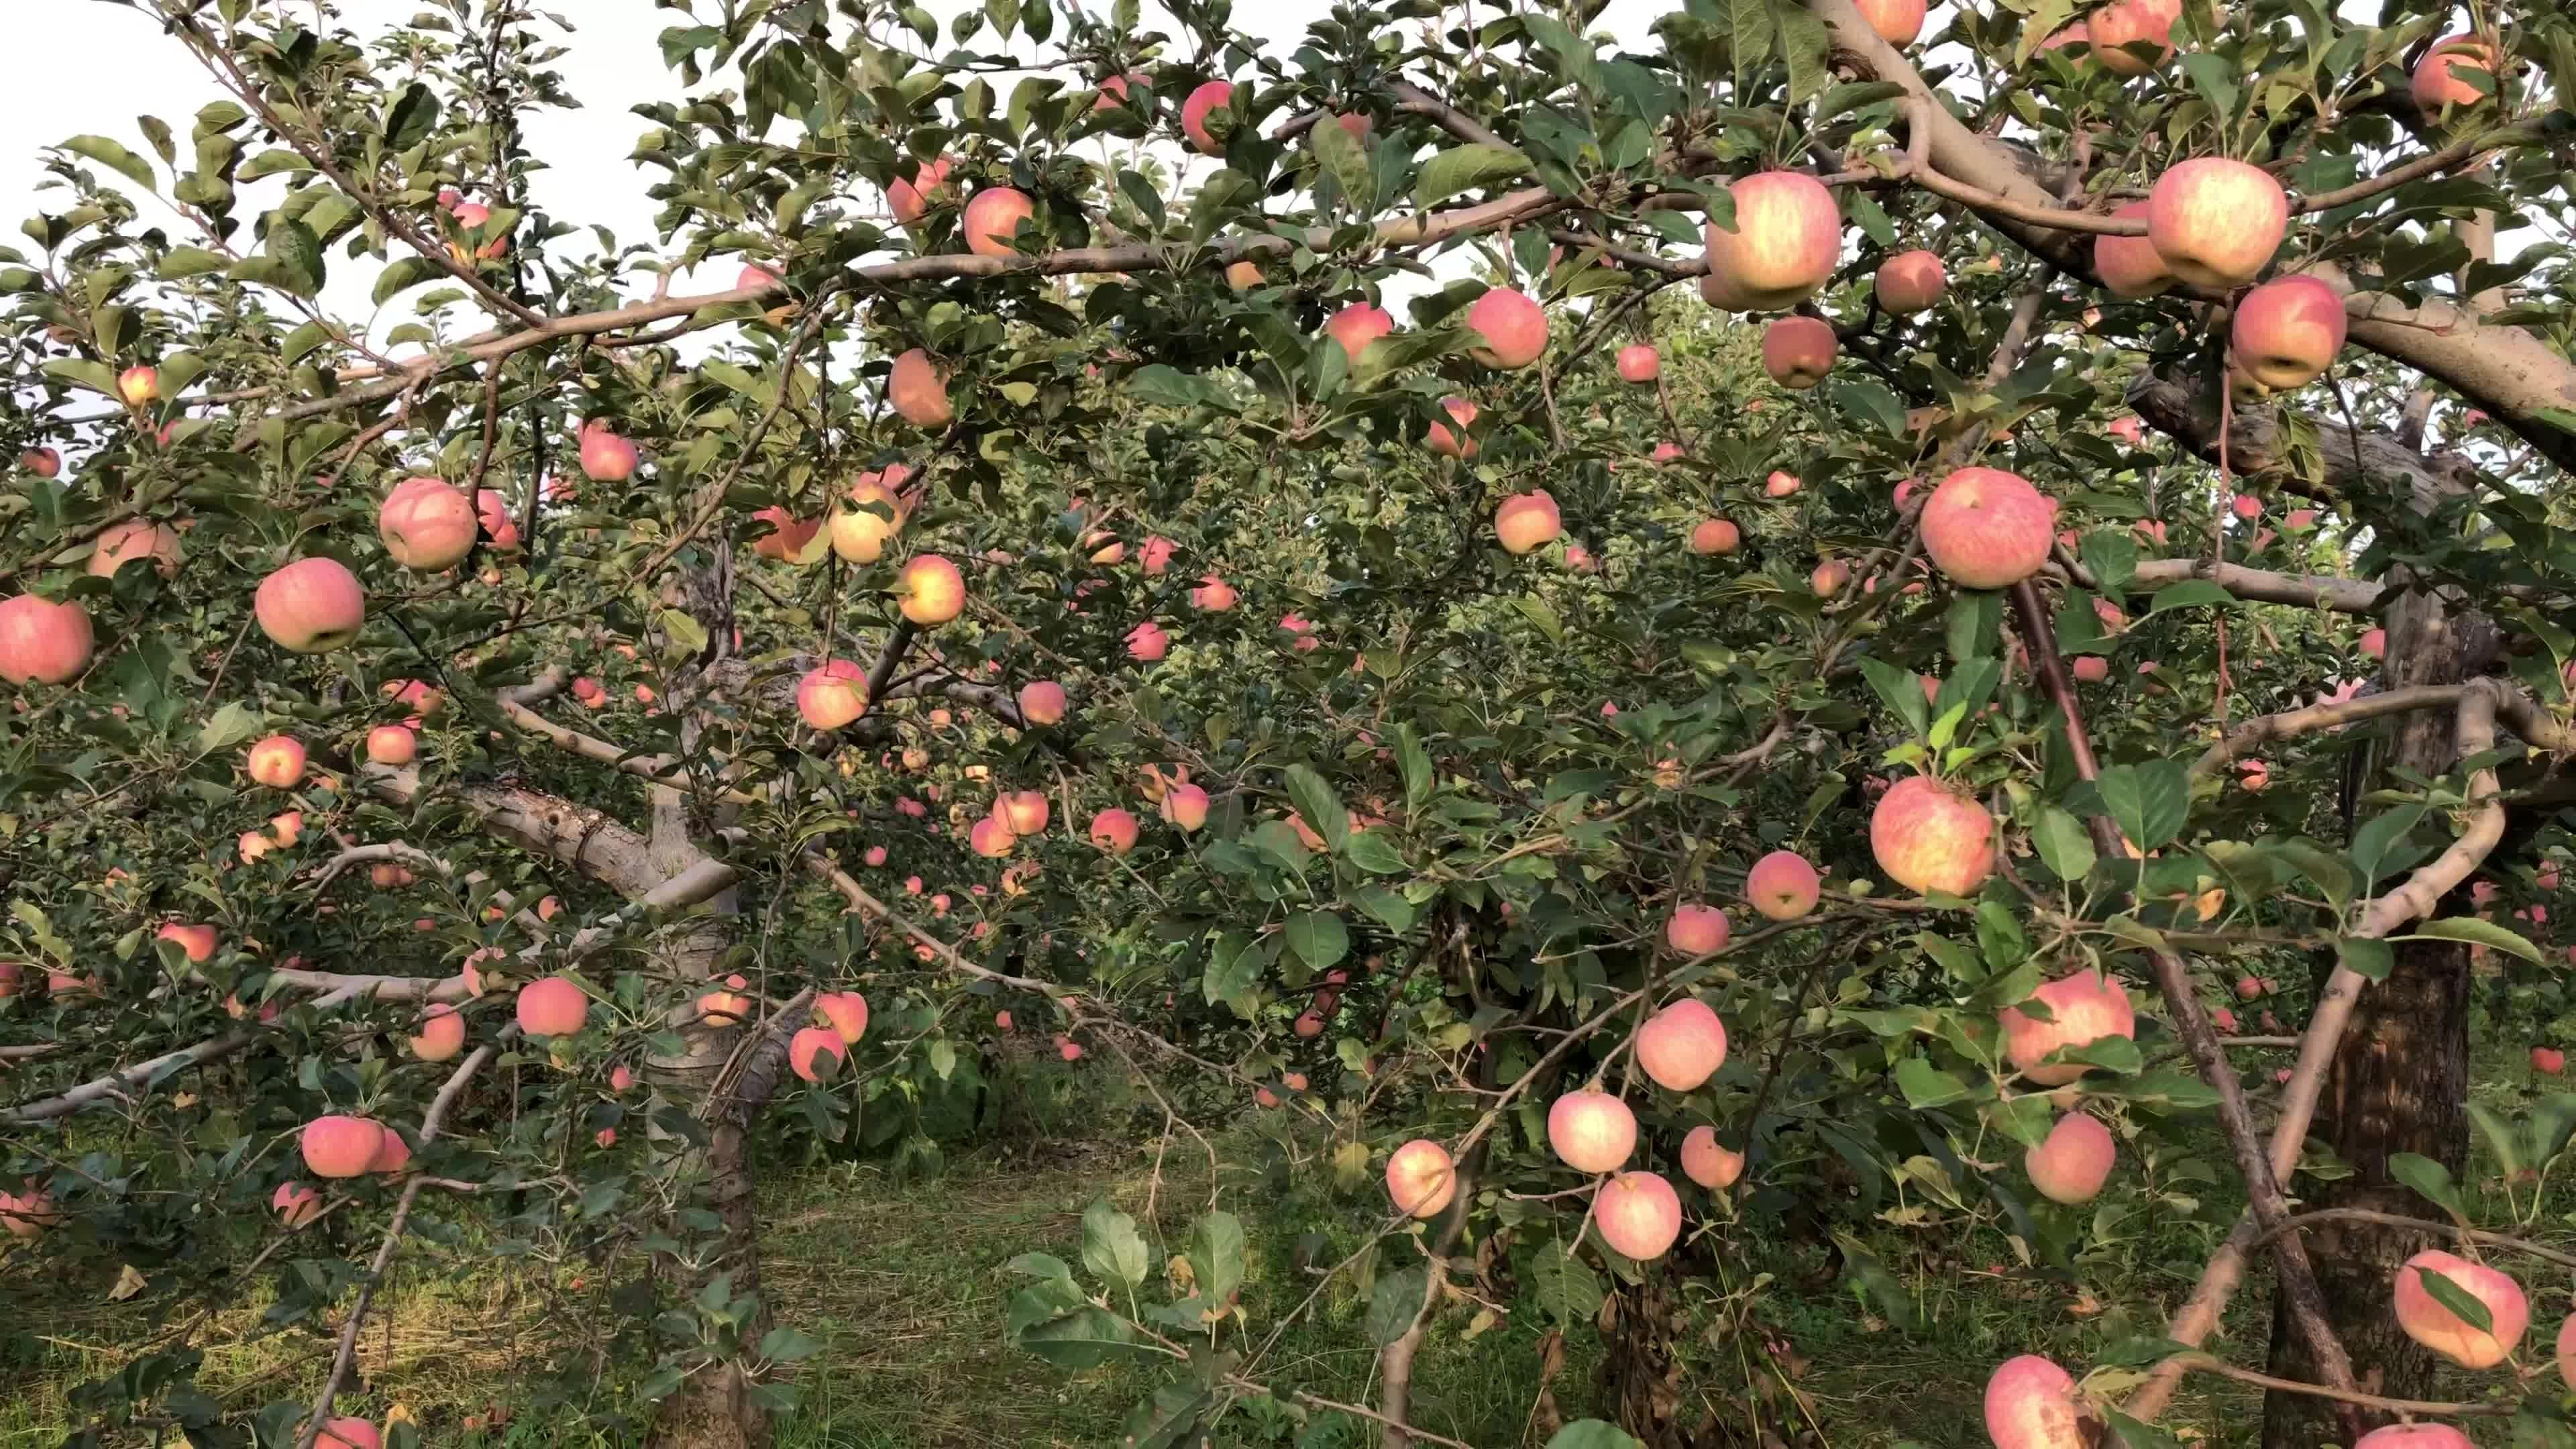apple: (1702, 170, 1844, 317), (2151, 157, 2295, 292), (2392, 1246, 2530, 1373), (1921, 472, 2059, 593), (1872, 780, 1999, 901), (2008, 966, 2134, 1077), (2233, 280, 2348, 396), (1985, 1357, 2107, 1449), (255, 557, 361, 653), (0, 596, 97, 688), (2029, 1113, 2120, 1208), (1594, 1175, 1684, 1265), (1550, 1088, 1640, 1178), (1468, 292, 1552, 370), (966, 188, 1044, 265), (297, 1111, 382, 1182), (1762, 317, 1838, 395), (513, 973, 596, 1044), (794, 660, 878, 731), (1875, 249, 1951, 324), (893, 552, 971, 625), (1750, 853, 1824, 927), (890, 350, 955, 433), (1182, 83, 1240, 157), (1329, 306, 1399, 366), (833, 506, 895, 566)
